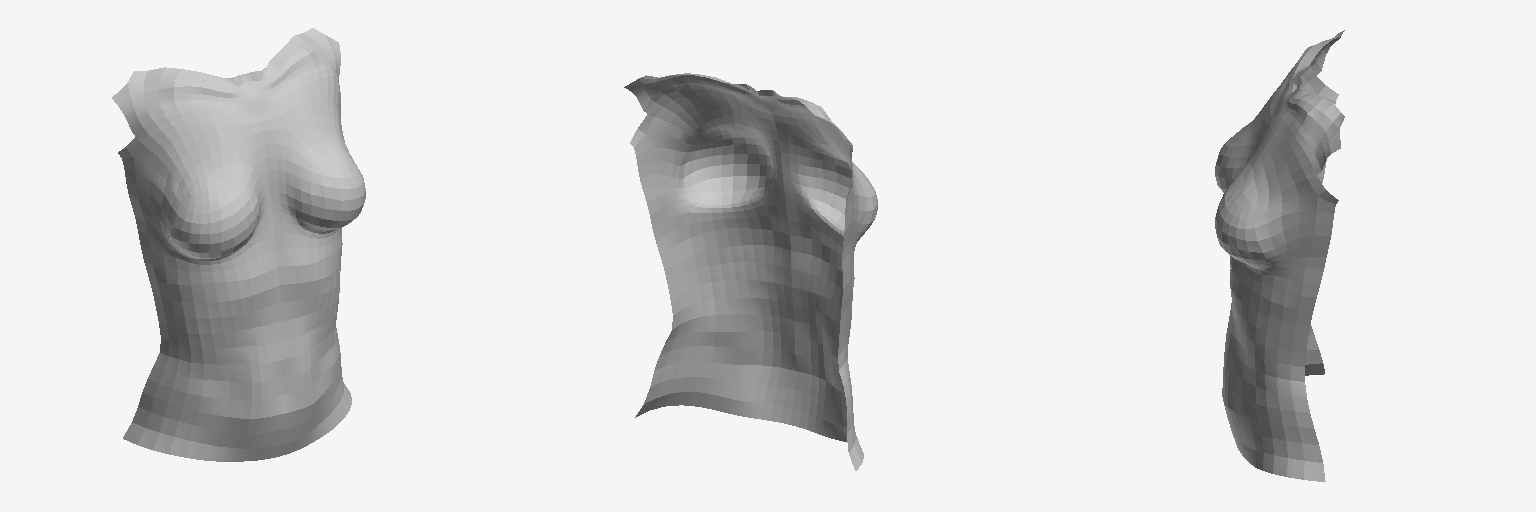
Rendered from Template2.obj.
3 views of the same model, side by side, from view 1: azimuth 30°, elevation 25°; view 2: azimuth 150°, elevation 25°; view 3: azimuth 270°, elevation 25° (orthographic).
Bounding box in the file's own units: 0.2885 × 0.4487 × 0.1431.